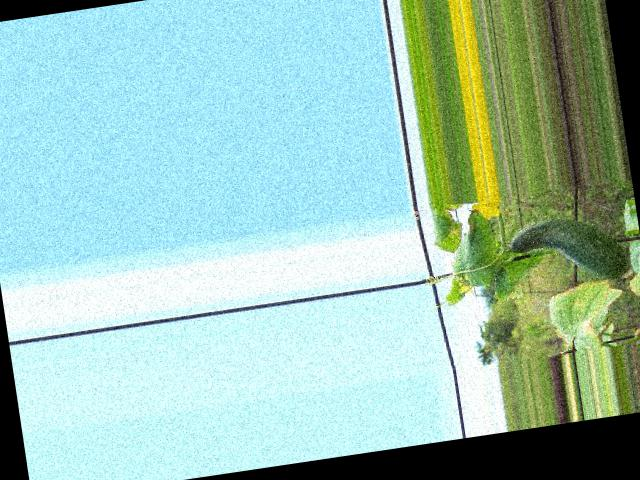cucumber: (506, 208, 630, 294)
